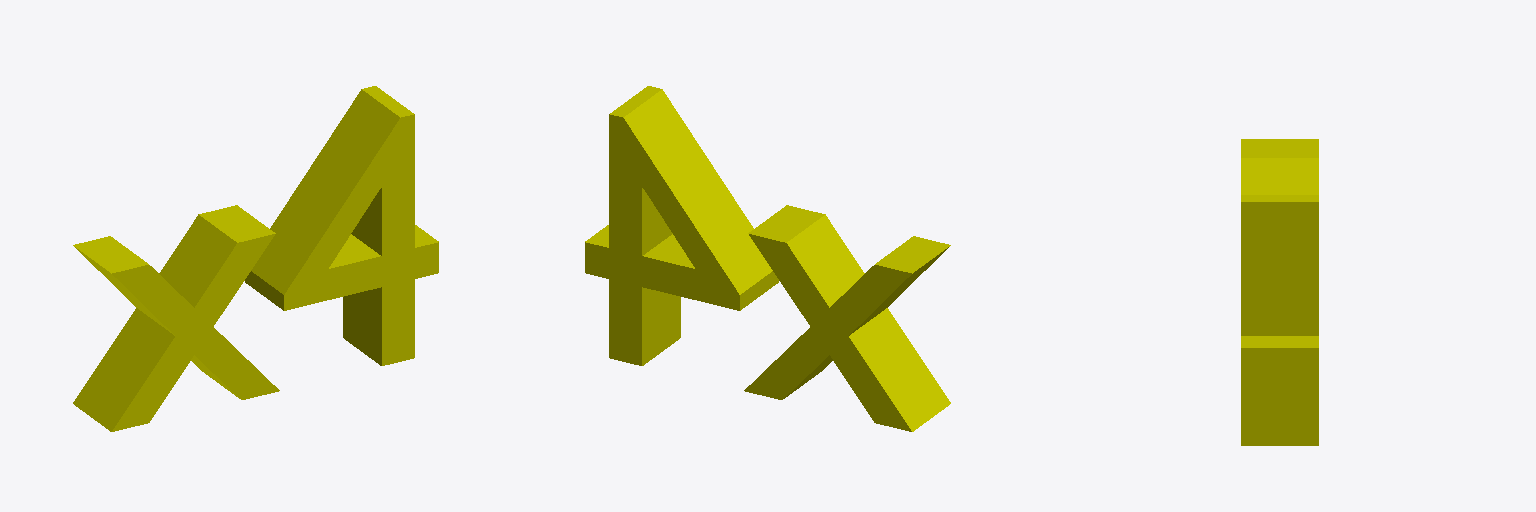
3 renders of one model, left to right at view 1: azimuth 30°, elevation 25°; view 2: azimuth 150°, elevation 25°; view 3: azimuth 270°, elevation 25°, orthographic.
Parts seen in each view (by area): view 1: Text_CUText; view 2: Text_CUText; view 3: Text_CUText.
Boxes of the visible parts, x1=… form: Text_CUText: x1=73, y1=86, x2=438, y2=431; Text_CUText: x1=585, y1=86, x2=950, y2=431; Text_CUText: x1=1241, y1=139, x2=1318, y2=445.
Bounding box in the file's own units: 0.971 × 0.691 × 0.2.